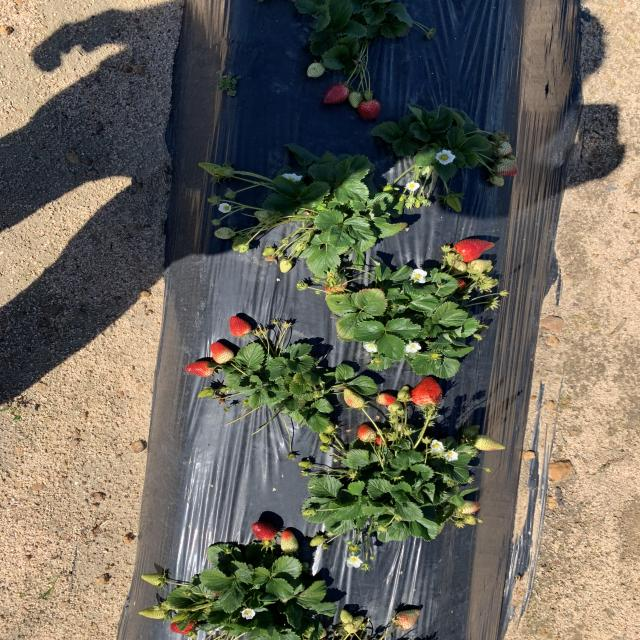unripe: (454, 238, 494, 264), (412, 376, 445, 406), (209, 340, 235, 363), (184, 360, 217, 378), (357, 100, 382, 122), (323, 84, 349, 105), (168, 618, 200, 634), (228, 316, 252, 336), (252, 522, 276, 541), (376, 394, 396, 404), (454, 278, 469, 290), (376, 433, 388, 446)
